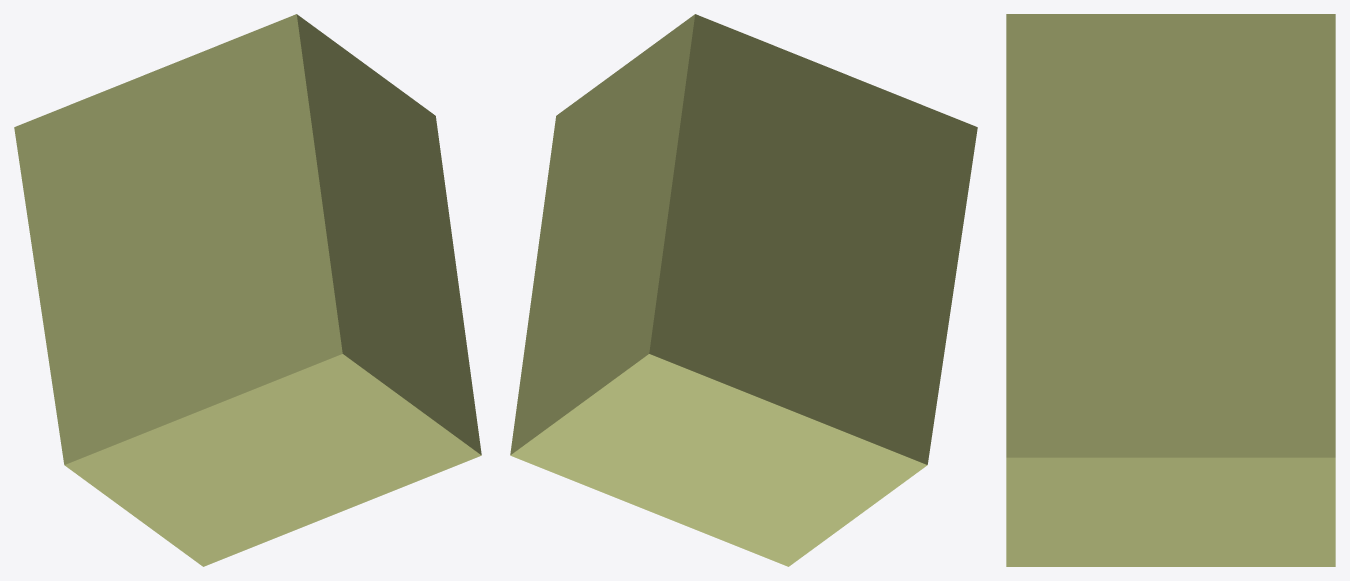
The picture shows the model from 3 angles, left to right: view 1: azimuth 30°, elevation 25°; view 2: azimuth 150°, elevation 25°; view 3: azimuth 270°, elevation 25°; orthographic projection. The views are drawn at different scales.
Parts seen in each view (by area): view 1: 0_1_2_0_1_1_0_0_0_2_2; view 2: 0_1_2_0_1_1_0_0_0_2_2; view 3: 0_1_2_0_1_1_0_0_0_2_2.
Part boxes in pixels (x1=…): 0_1_2_0_1_1_0_0_0_2_2: x1=14, y1=14, x2=481, y2=566; 0_1_2_0_1_1_0_0_0_2_2: x1=510, y1=14, x2=977, y2=566; 0_1_2_0_1_1_0_0_0_2_2: x1=1006, y1=14, x2=1335, y2=566.
Bounding box in the file's own units: 8.18 × 9.39 × 6.
